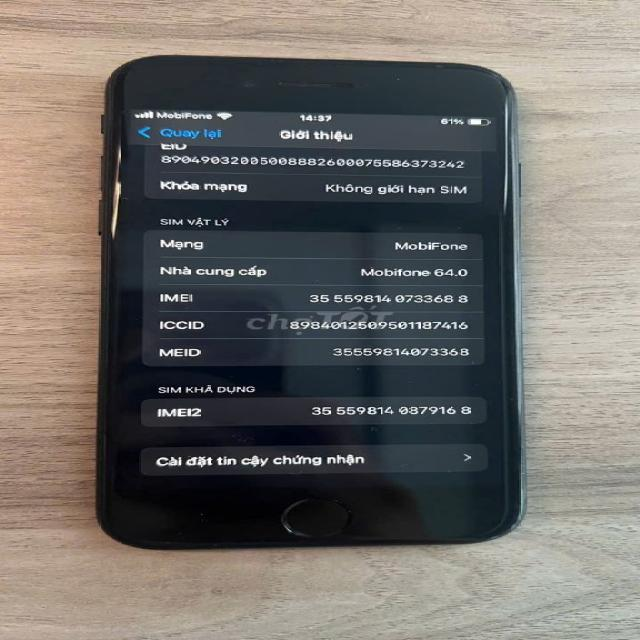gen_7_8: (93, 50, 527, 551)
